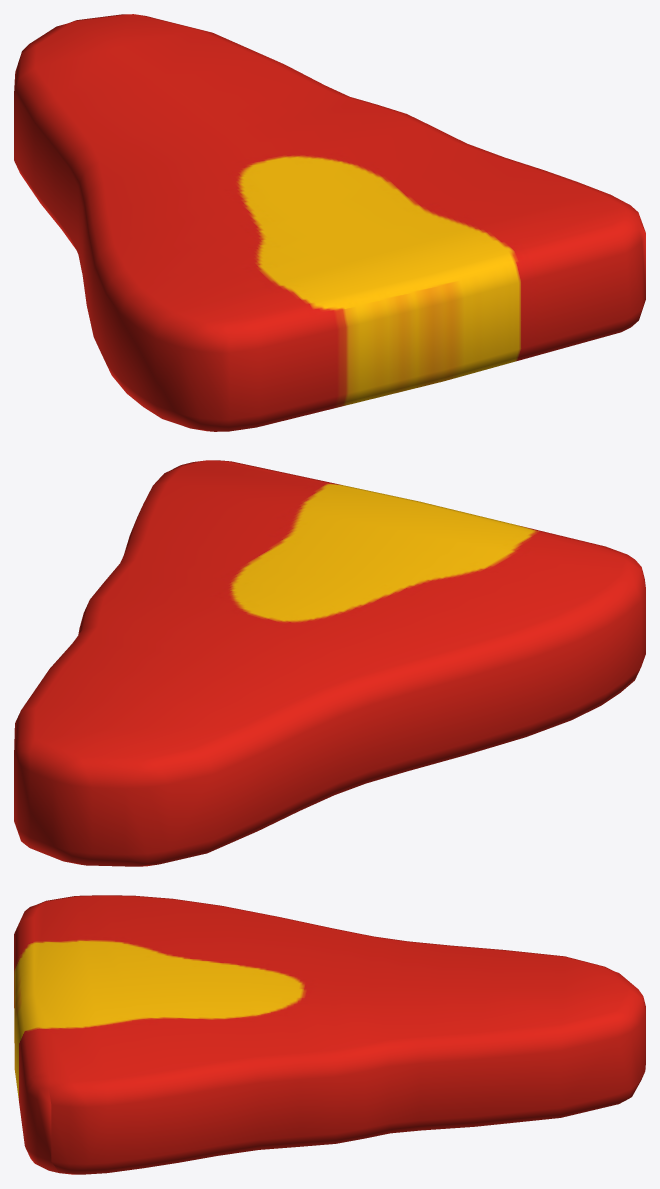
The model's file is flame2.fbx.
The picture shows the model from 3 angles, top to bottom: view 1: azimuth 30°, elevation 25°; view 2: azimuth 150°, elevation 25°; view 3: azimuth 270°, elevation 25°; orthographic projection. The views are drawn at different scales.
Parts seen in each view (by area): view 1: flame_2; view 2: flame_2; view 3: flame_2.
Boxes of the visible parts, <box> form: flame_2: <box>14,14,645,431</box>; flame_2: <box>14,460,645,866</box>; flame_2: <box>14,895,645,1174</box>.
Bounding box in the file's own units: 57.27 × 12.27 × 75.71.
